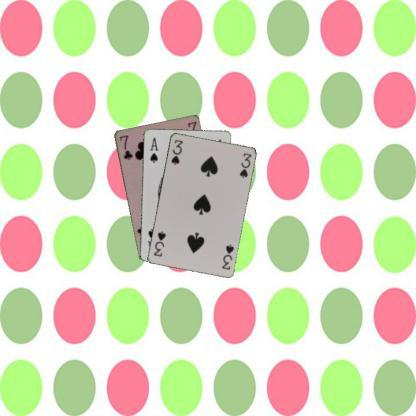3s: (168, 137, 184, 166), (219, 242, 235, 271)
7c: (116, 132, 134, 162)
As: (148, 134, 158, 164)
